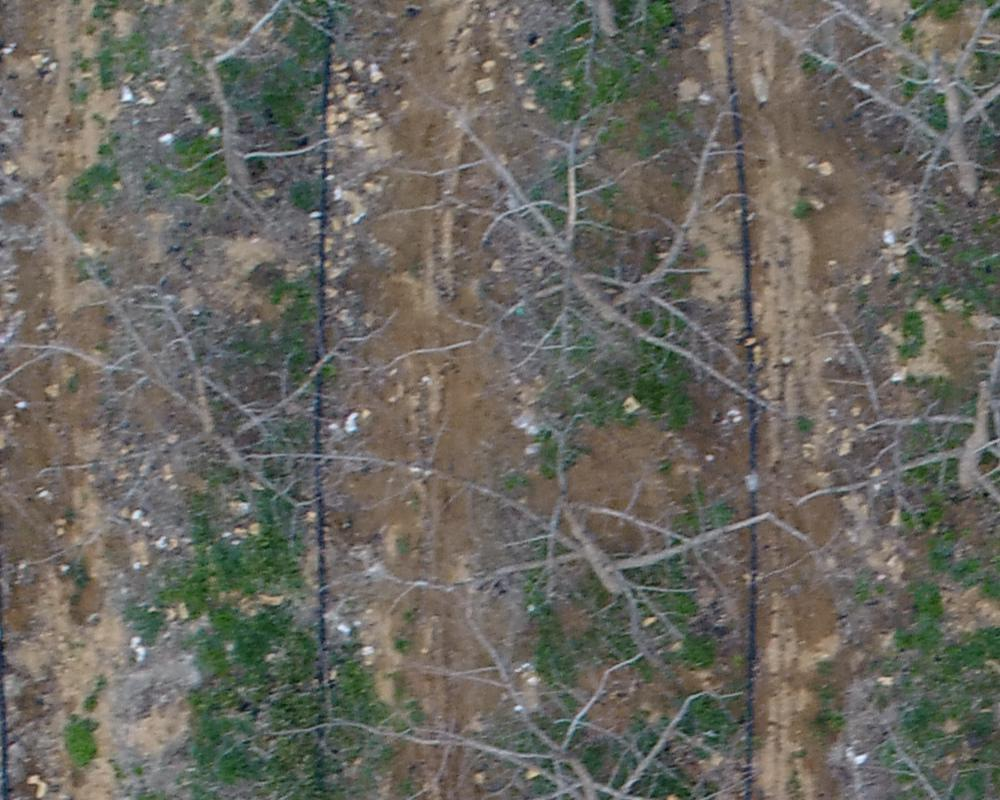apple: (10, 155, 473, 593), (401, 75, 802, 443), (317, 407, 837, 673), (278, 613, 797, 790), (782, 225, 990, 664), (751, 10, 990, 251)
